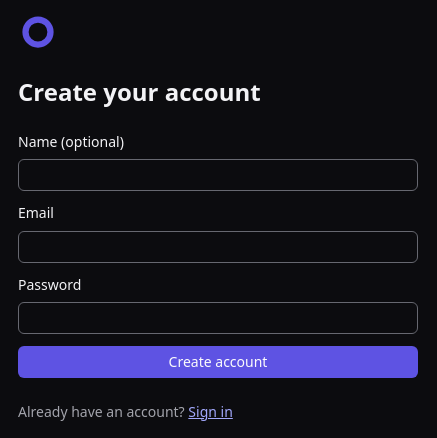
/sign-up › shows the invite only message when the mode closed after the page loaded
This screenshot has width=437, height=438.
Type "linus@example.com" into the field labelled "Email". click: (218, 246)
box: [18,230,418,262]
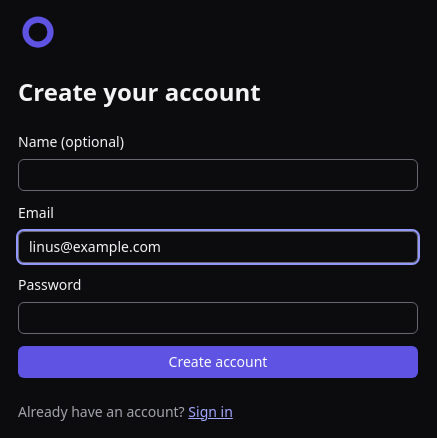
Type "correct horse battery" into the password field labelled "Password". click: (218, 318)
box: [18,302,418,334]
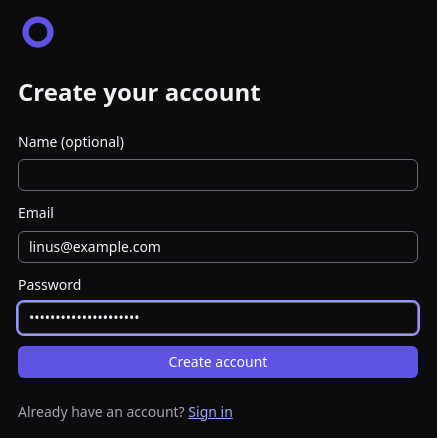
Click the submit button. click: (218, 362)
box: [18,346,418,378]
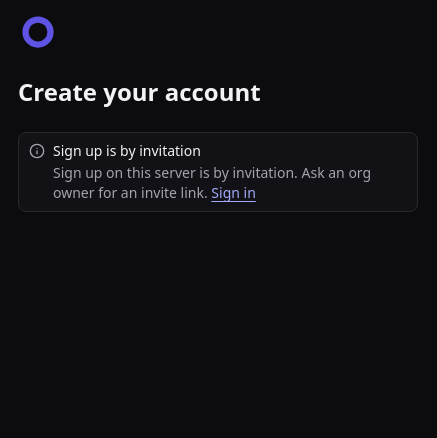
expect the text "Sign up on this server is by invitation. Ask an org owner for an invite link." is shown: met, box [53,163,371,202]
